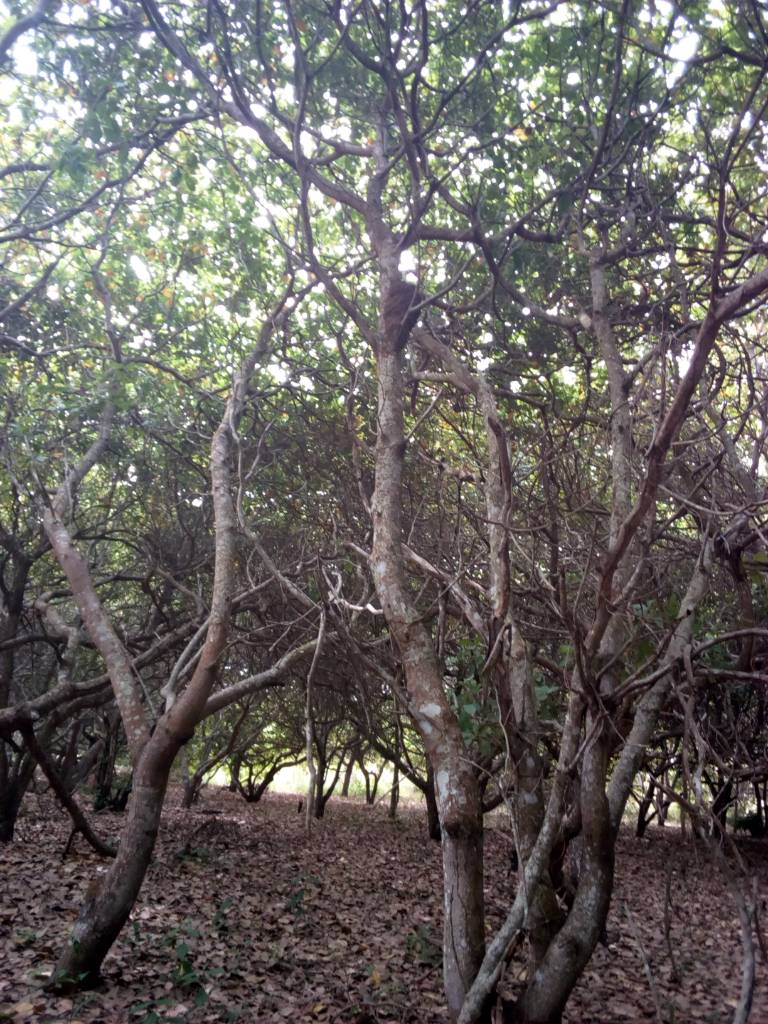Termites: (385, 267, 418, 347)
